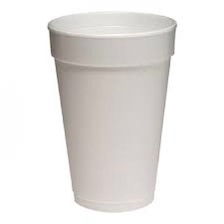paper_cup: (43, 7, 180, 215)
